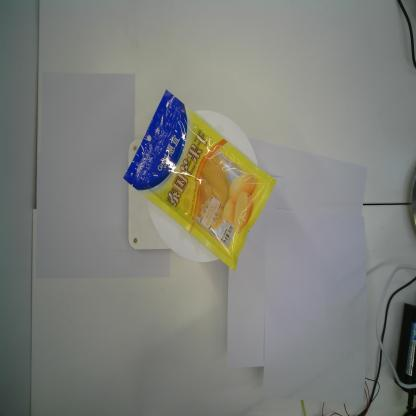Dried Fruit: (123, 89, 277, 272)
